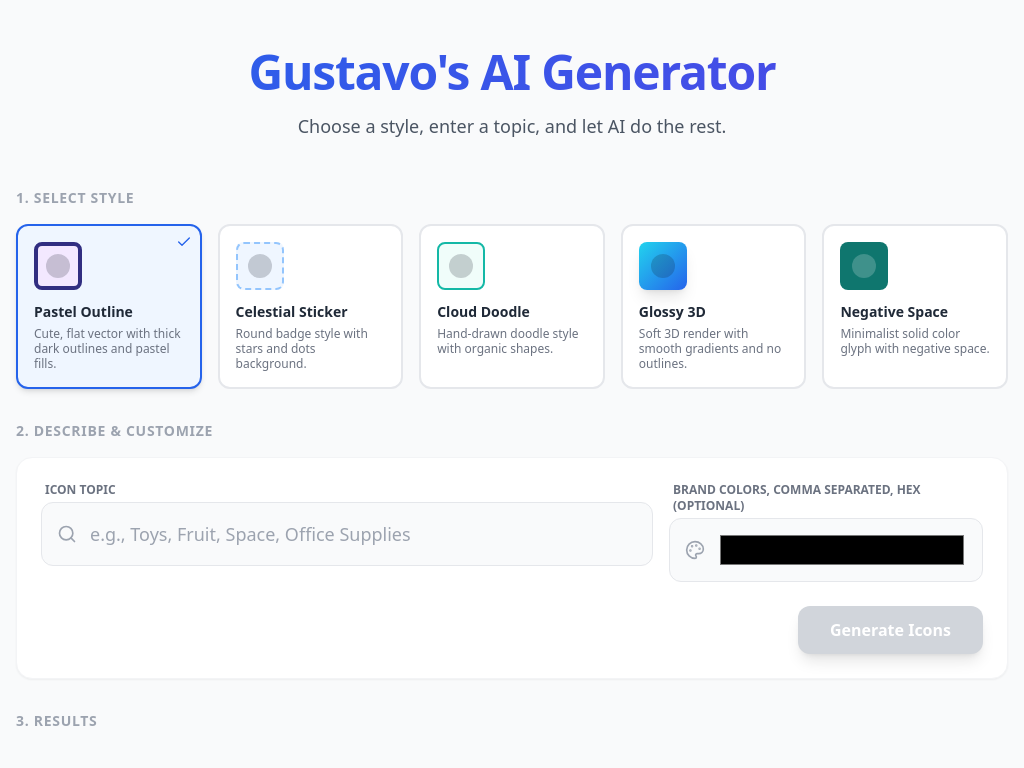
Test: App › handles rate limit errors gracefully
Type "Fruit" into the field with placeholder "e.g., Toys, Fruit, Space, Office Supplies" at (347, 534), box [41,502,653,566]
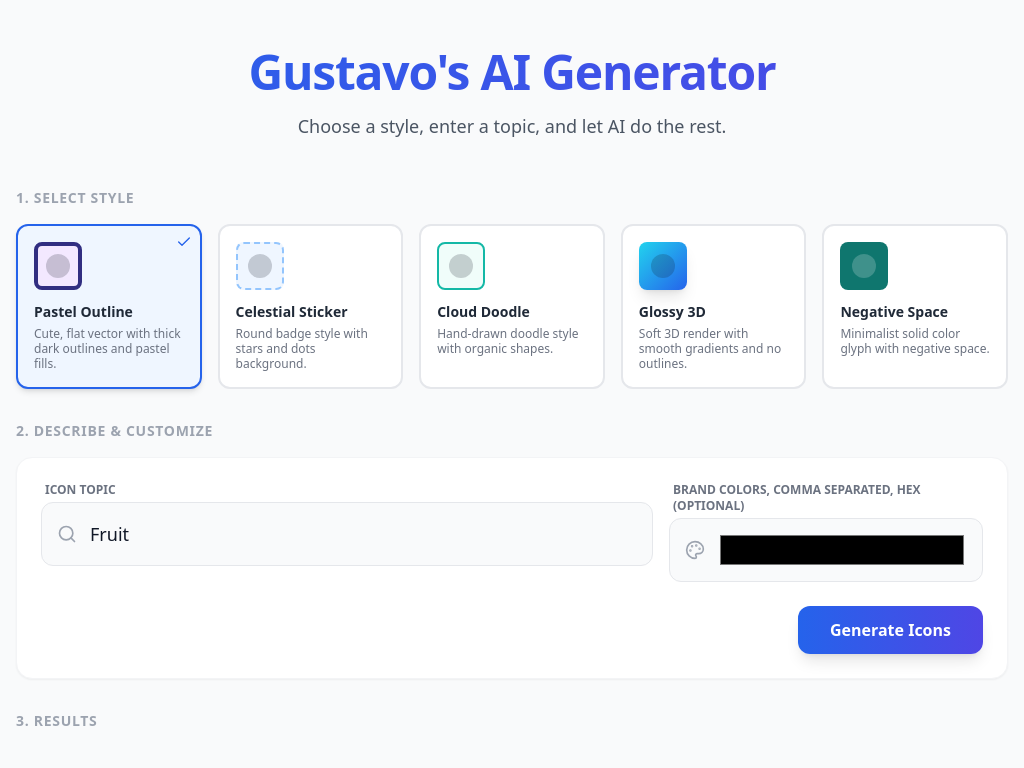
Click the button "Generate Icons" at (890, 630), box [798,606,983,654]
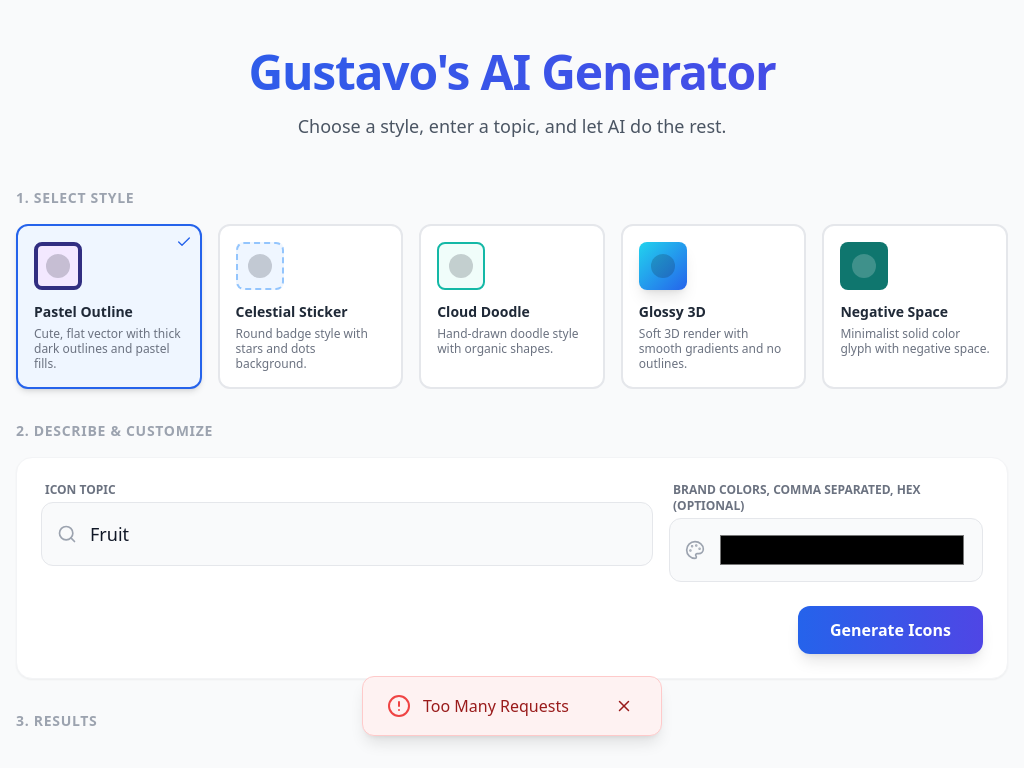
Check: the text "Too Many Requests" is shown, box [423,695,569,717]
